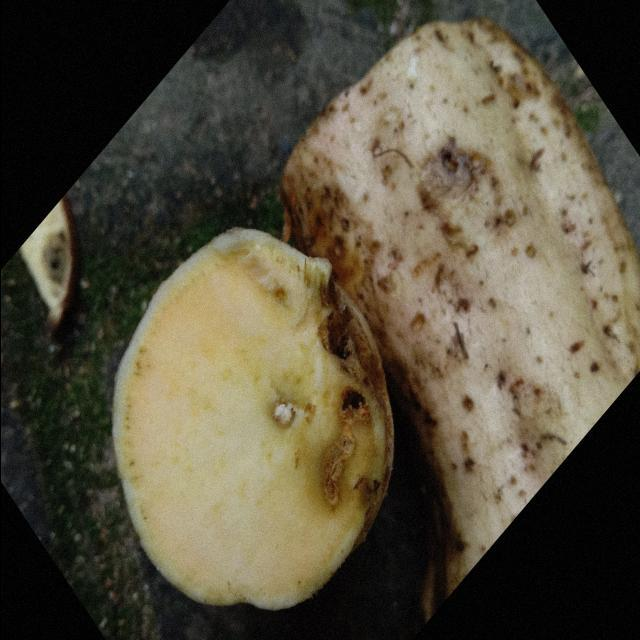Sick Sweet Potato_Tuber Rot: (112, 228, 392, 608)
